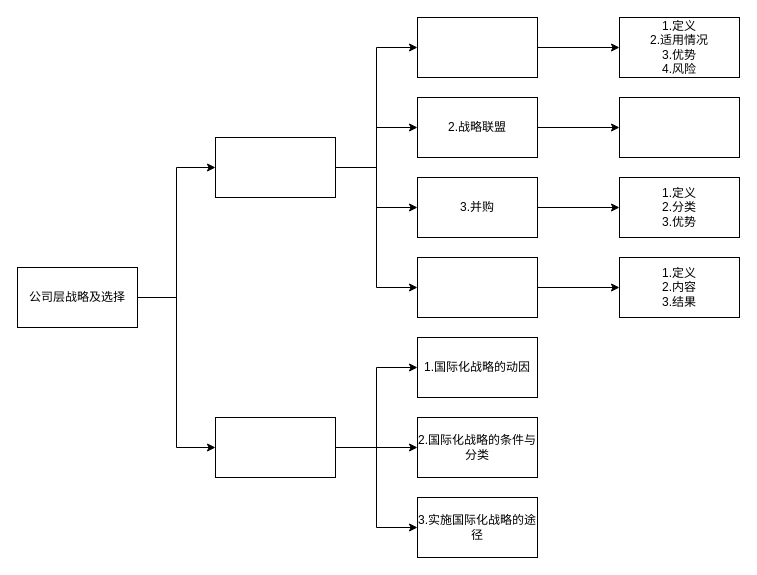
The diagram is 757 pixels wide and 575 high, and some of its shapes have lost their labels. The shapes that lost their labels are listed below. From the top down, each one's box as (x1, y1, x2, y2) in pixels, then its label:
(416, 16, 538, 78): 1.自我发展
(618, 96, 740, 158): 1.定义 2.运作形式 3.适用情况 4.优势 5.劣势
(214, 136, 336, 198): 1.联盟、并购与重组战略
(416, 256, 538, 318): 4.重组
(214, 416, 336, 478): 2.国际化战略
